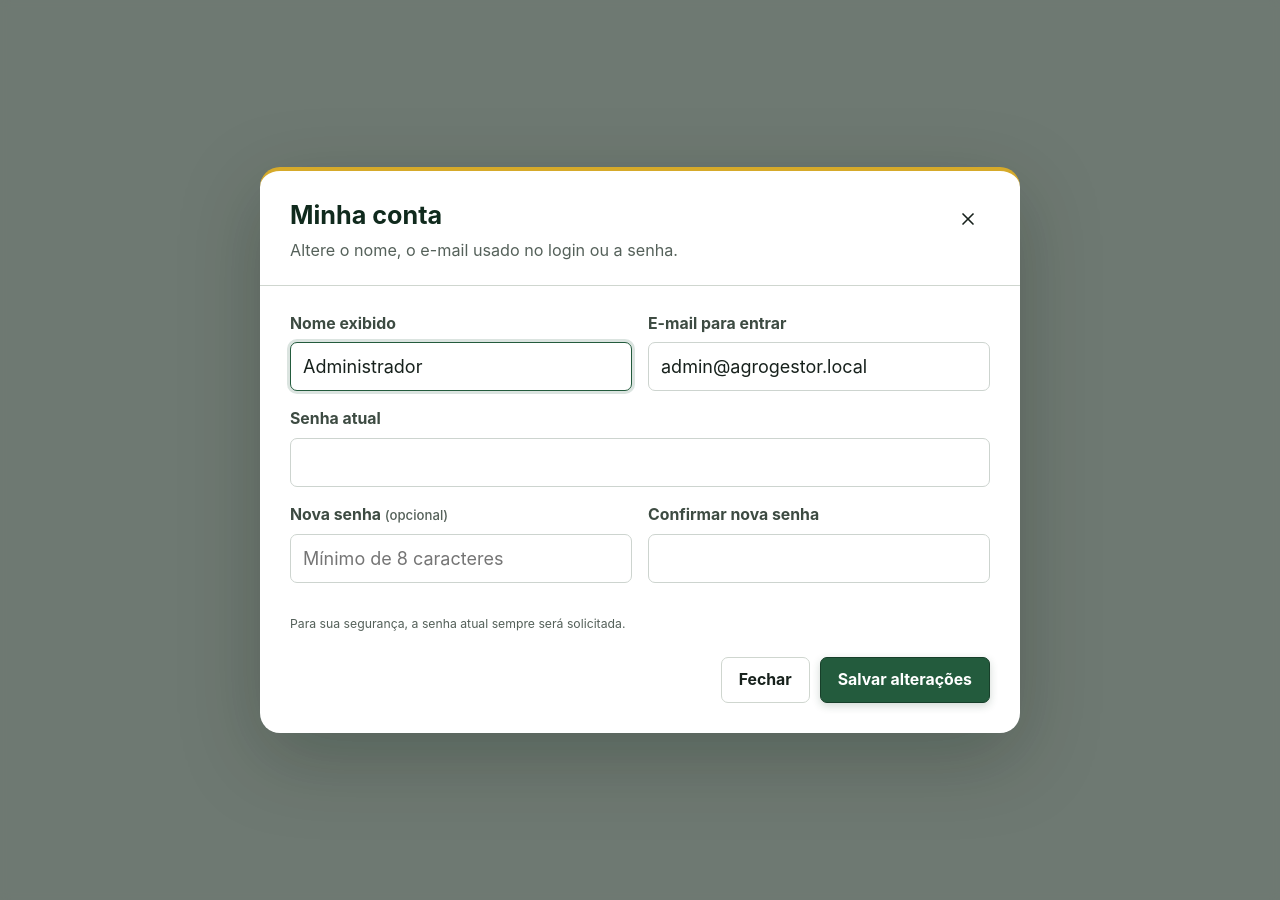
Test: ProfileSettingsModal › impede o envio quando a confirmaÃ§Ã£o da senha nÃ£o confere
The width and height of the screenshot is (1280, 900).
Type "senha-atual" into the password field labelled "Senha atual" at [640, 463], box [290,438,990,487]
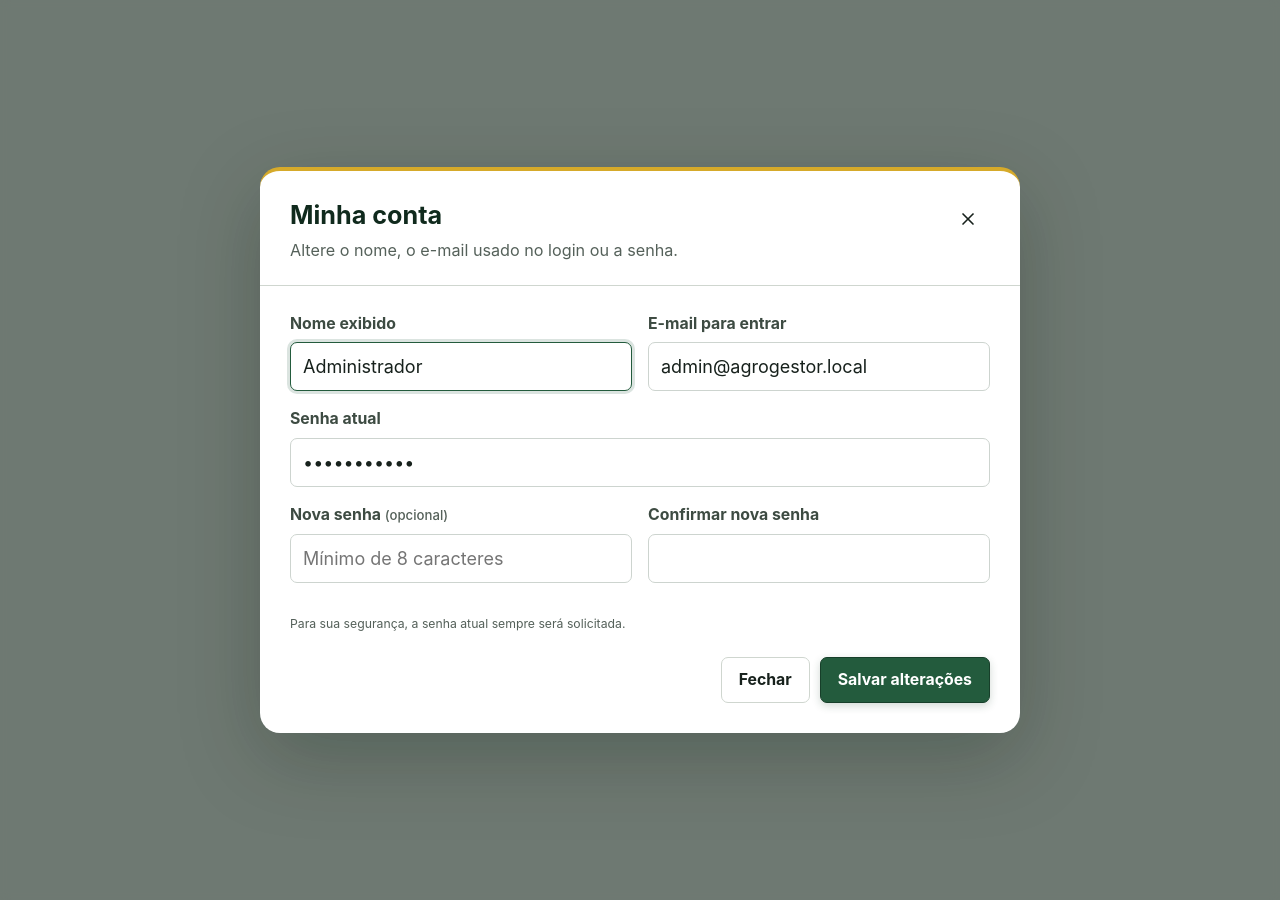
Type "nova-senha" into the password field labelled "Nova senha (opcional)" at [461, 558], box [290,534,632,583]
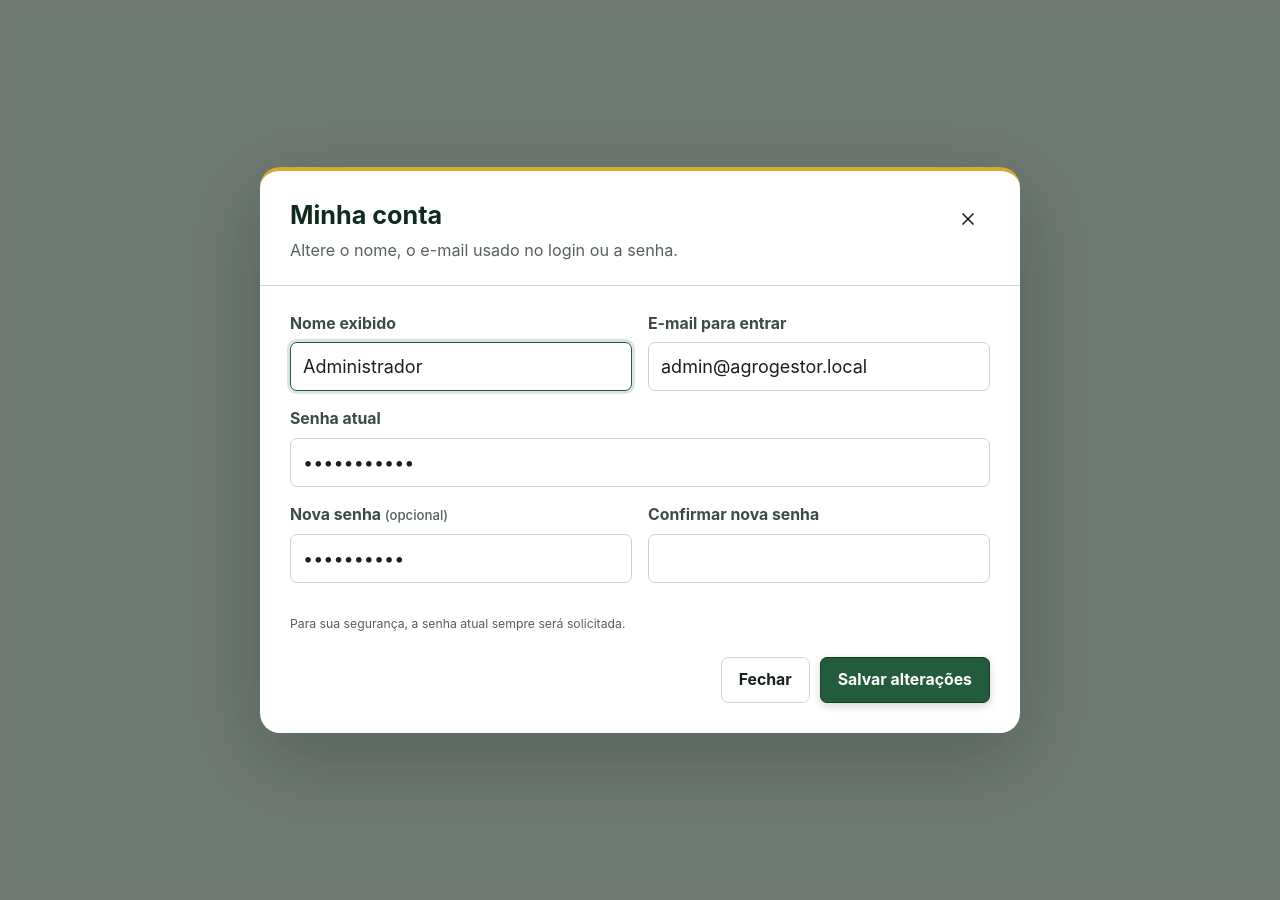
Type "outra-senha" into the password field labelled "Confirmar nova senha" at [819, 558], box [648,534,990,583]
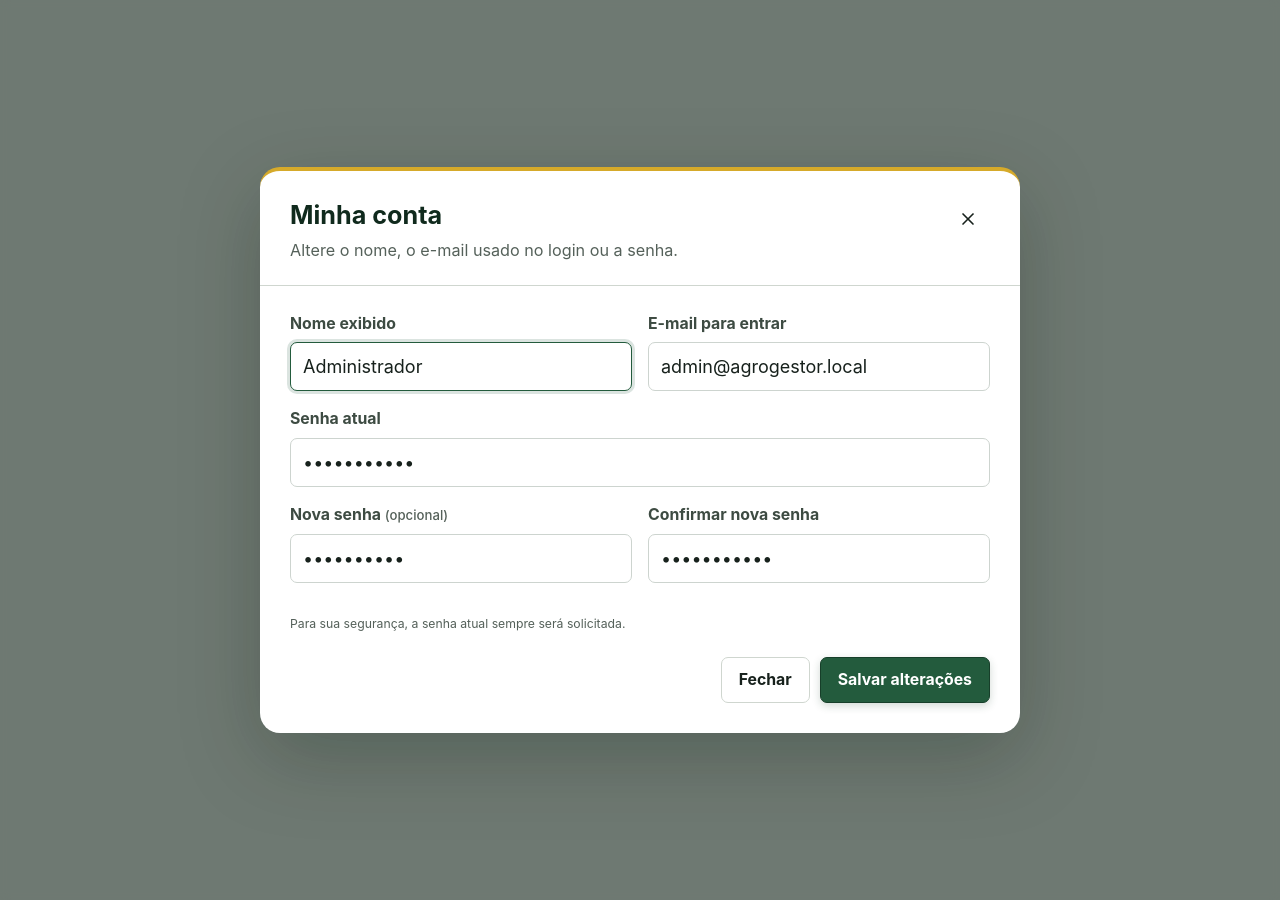
Click the button "Salvar alterações" at [905, 680], box [820,657,990,703]
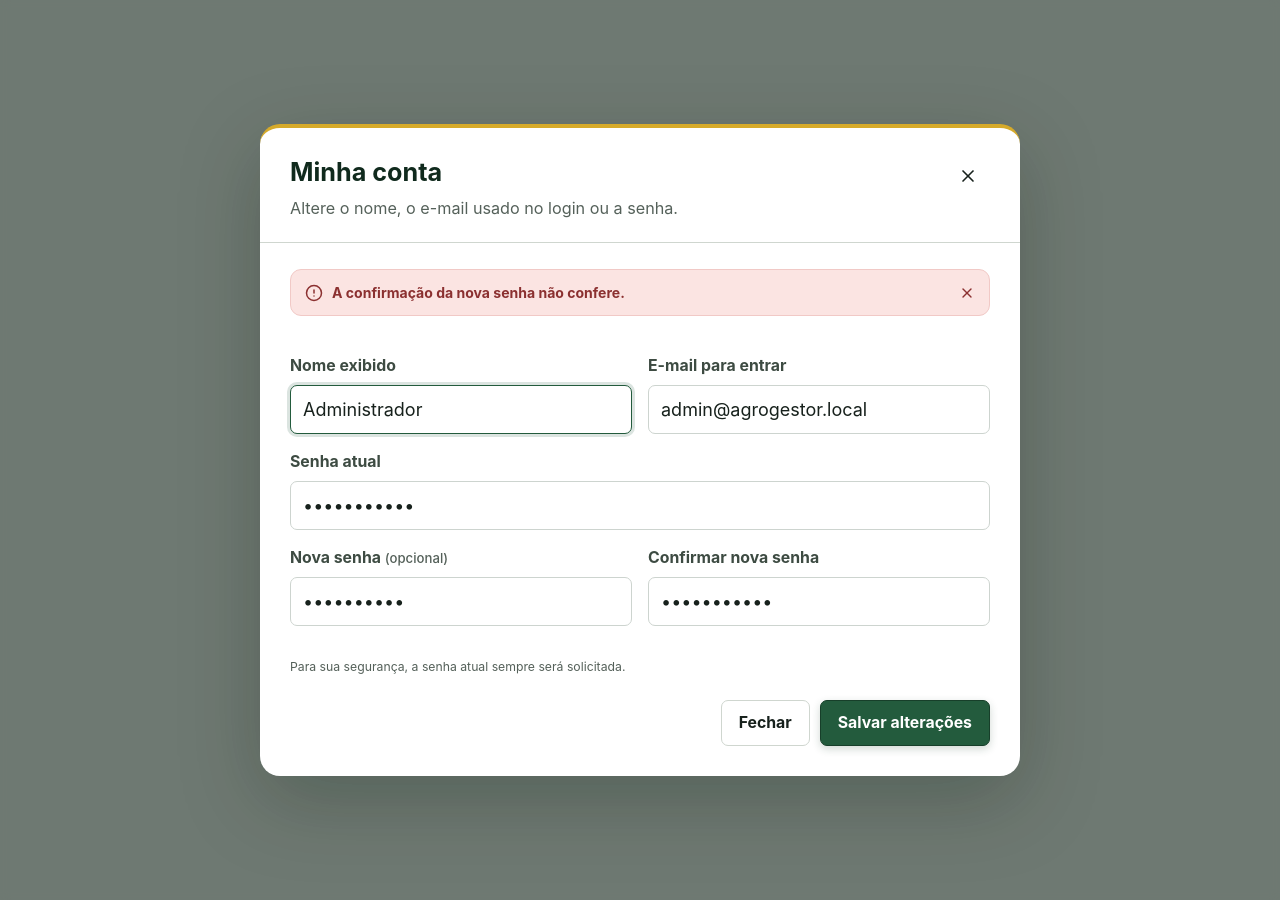
Result: the message shows "nova senha" at [332,284,625,301]
